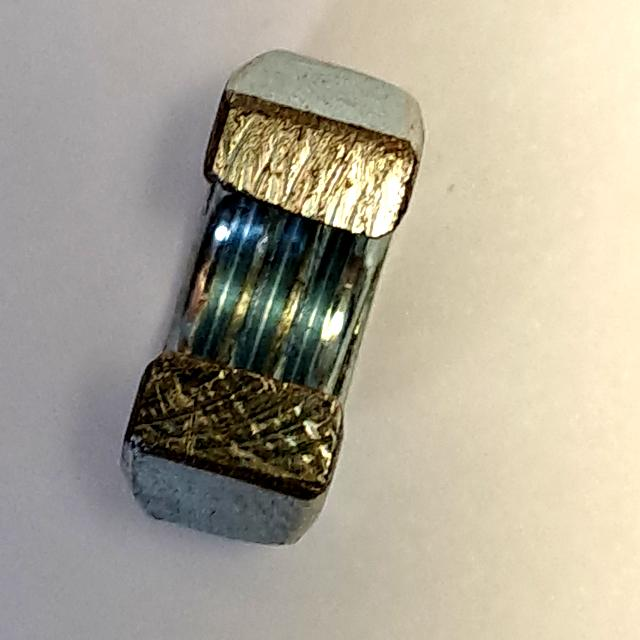Side-Fracture: (96, 42, 436, 558)
